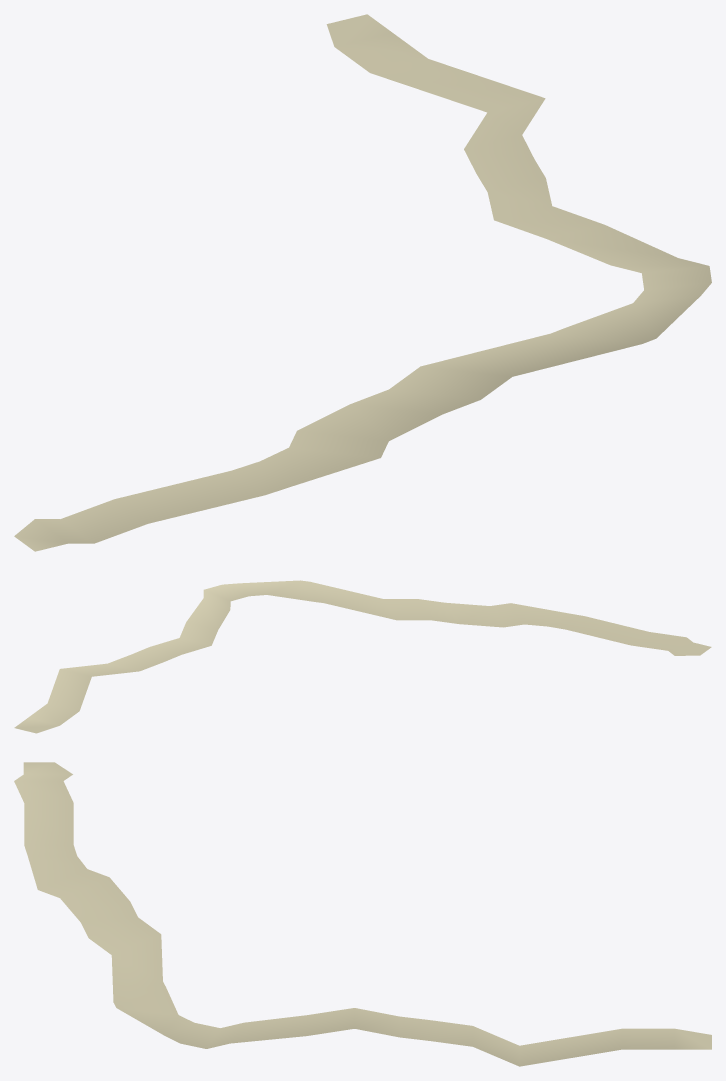
The model's file is foam_3_90.fbx.
3 views of the same model, one above another, from view 1: azimuth 30°, elevation 25°; view 2: azimuth 150°, elevation 25°; view 3: azimuth 270°, elevation 25° (orthographic). The views are drawn at different scales.
Visible parts, largest first — view 1: foam_1; view 2: foam_1; view 3: foam_1.
Part boxes in pixels (x1,y1,x2,y2): foam_1: (14,14,711,551); foam_1: (14,580,711,733); foam_1: (14,762,711,1066).
Size of what is drawn, in the model's own units: 21.8 by 1.19e-07 by 21.13.
